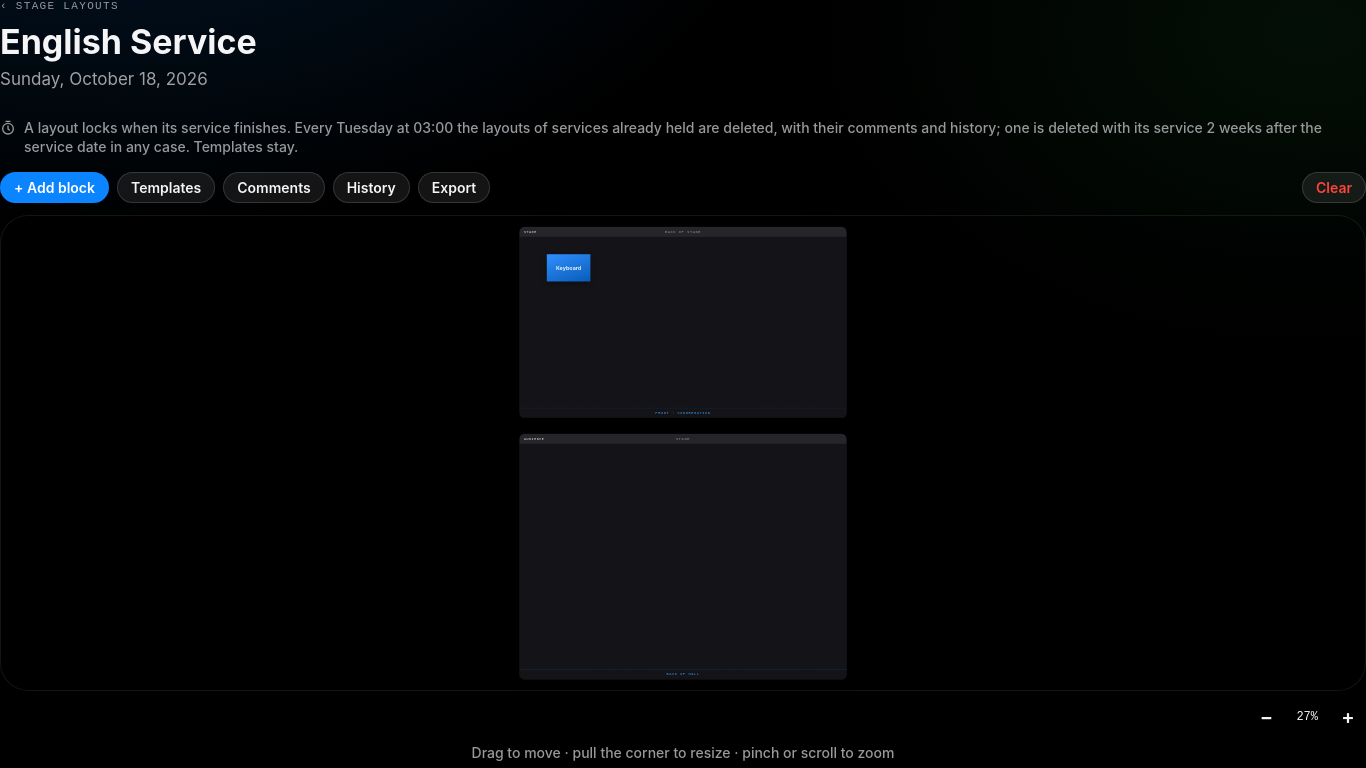
Test case: a session’s stage › shows the history as sentences
Click the button "History". click: (371, 188)
box: [333,172,410,203]
(page scrolled)
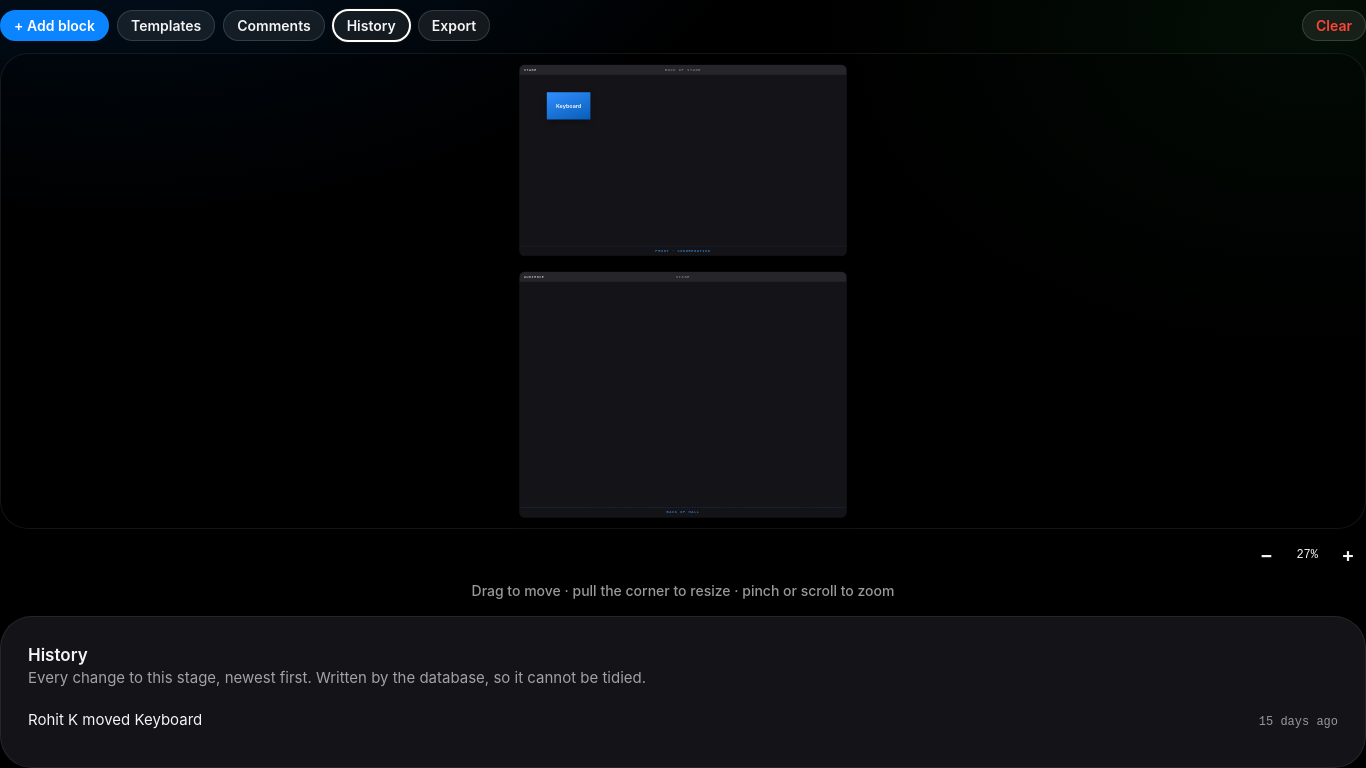
Result: the text "Rohit K moved Keyboard" is shown at [28,710,202,730]
